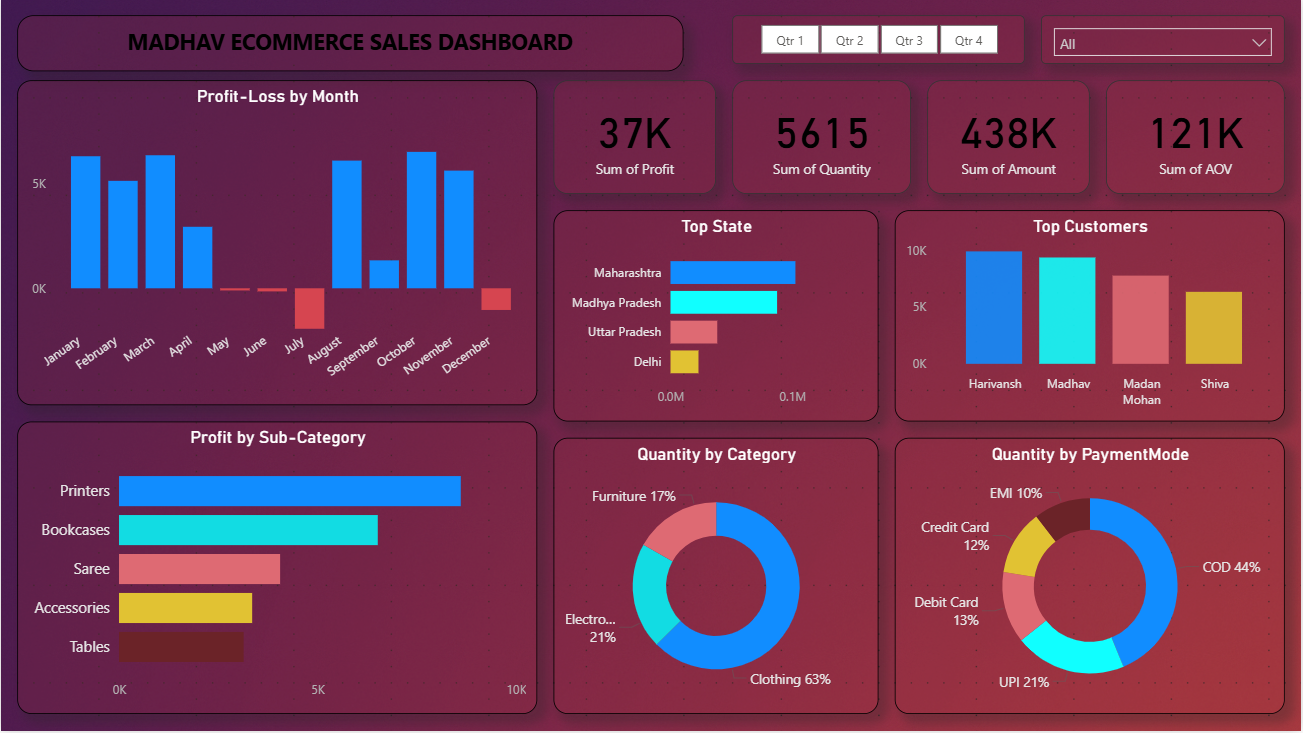

This screenshot's page, from the dashboard's own definition file:
{"tool":"powerbi","page":{"name":"Page 1","canvas":[1280,720],"ordinal":0},"visuals":[{"type":"textbox","box":[16,16,656,55],"z":0},{"type":"columnChart","title":"Profit-Loss by Month","fields":{"Category":["Orders.Order Date.Variation.Date Hierarchy.Month"],"Y":["Details.Profit"]},"box":[16,80,512,320],"z":1000},{"type":"barChart","title":"Profit by Sub-Category","fields":{"Category":["Details.Sub-Category"],"Y":["Details.Profit"]},"box":[16,416,512,288],"z":2000},{"type":"donutChart","title":"Quantity by PaymentMode","fields":{"Y":["Details.Quantity"],"Category":["Details.PaymentMode"]},"box":[880,432,384,272],"z":3000},{"type":"donutChart","title":"Quantity by Category","fields":{"Category":["Details.Category"],"Y":["Details.Quantity"]},"box":[544,432,320,272],"z":4000},{"type":"card","fields":{"Values":["Details.Amount"]},"box":[912,80,160,112],"z":5000},{"type":"card","fields":{"Values":["Details.Profit"]},"box":[544,80,160,112],"z":6000},{"type":"card","fields":{"Values":["Details.Quantity"]},"box":[720,80,176,112],"z":7000},{"type":"card","fields":{"Values":["Details.AOV"]},"box":[1088,80,176,112],"z":8000},{"type":"barChart","title":"Top State","fields":{"Category":["Orders.State"],"Y":["Details.Amount"]},"box":[544,208,320,208],"z":9000},{"type":"columnChart","title":"Top Customers","fields":{"Category":["Orders.CustomerName"],"Y":["Details.Amount"]},"box":[880,208,384,208],"z":10000},{"type":"slicer","fields":{"Values":["Orders.Order Date.Variation.Date Hierarchy.Quarter"]},"box":[720,16,288,48],"z":11000},{"type":"slicer","fields":{"Values":["Orders.State"]},"box":[1024,16,240,48],"z":12000}]}

Visuals, with their boxes in screenshot pixels (x1, y1, x2, y2), scaled from the page's 1280x720 canvas onto the 1303x733 screenshot:
textbox: select_region(16, 16, 684, 72)
"Profit-Loss by Month" columnChart: select_region(16, 81, 537, 407)
"Profit by Sub-Category" barChart: select_region(16, 424, 537, 717)
"Quantity by PaymentMode" donutChart: select_region(896, 440, 1287, 717)
"Quantity by Category" donutChart: select_region(554, 440, 880, 717)
card - Details.Amount: select_region(928, 81, 1091, 195)
card - Details.Profit: select_region(554, 81, 717, 195)
card - Details.Quantity: select_region(733, 81, 912, 195)
card - Details.AOV: select_region(1108, 81, 1287, 195)
"Top State" barChart: select_region(554, 212, 880, 424)
"Top Customers" columnChart: select_region(896, 212, 1287, 424)
slicer - Orders.Order Date.Variation.Date Hierarchy.Quarter: select_region(733, 16, 1026, 65)
slicer - Orders.State: select_region(1042, 16, 1287, 65)
